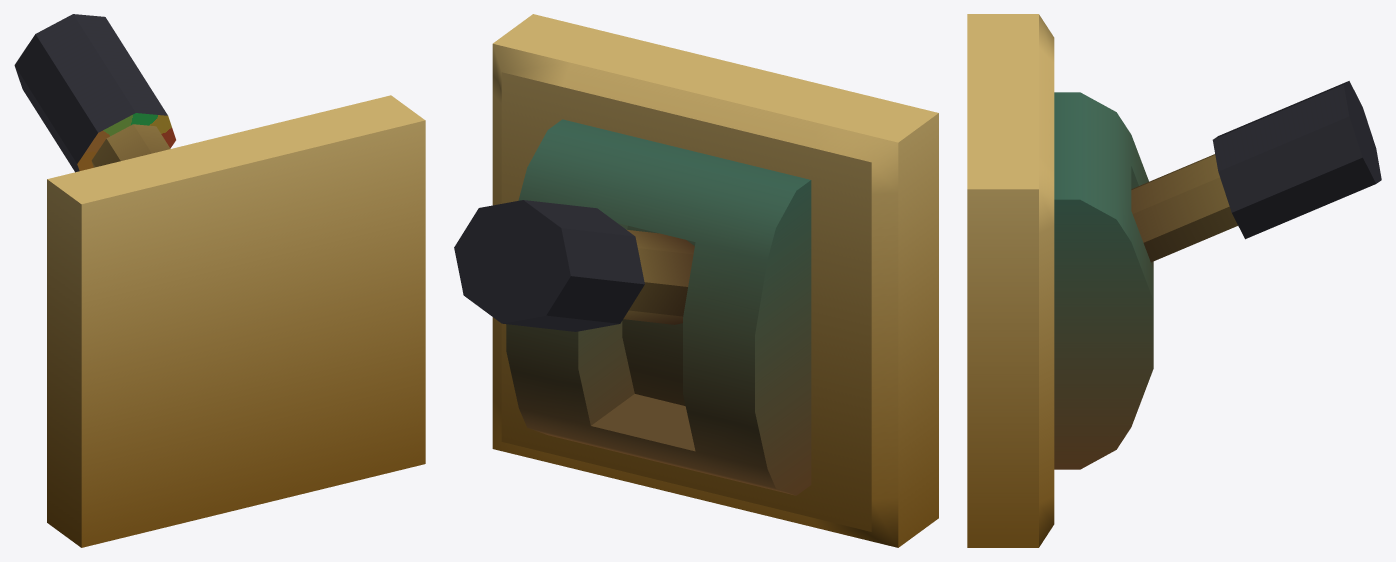
Rendered from Enviroment__Tuas_001.fbx.
3 views of the same model, side by side, from view 1: azimuth 30°, elevation 25°; view 2: azimuth 150°, elevation 25°; view 3: azimuth 270°, elevation 25° (orthographic). The views are drawn at different scales.
Visible parts, largest first — view 1: Cube.018, Cube.020; view 2: Cube.018, Cube.020; view 3: Cube.018, Cube.020.
Part boxes in pixels (x1,y1,x2,y2): Cube.018: [47, 95, 425, 547]; Cube.020: [14, 14, 175, 172]; Cube.018: [492, 14, 938, 547]; Cube.020: [454, 200, 694, 331]; Cube.018: [967, 14, 1153, 547]; Cube.020: [1131, 81, 1381, 262].
Bounding box in the file's own units: 5 × 5 × 5.
